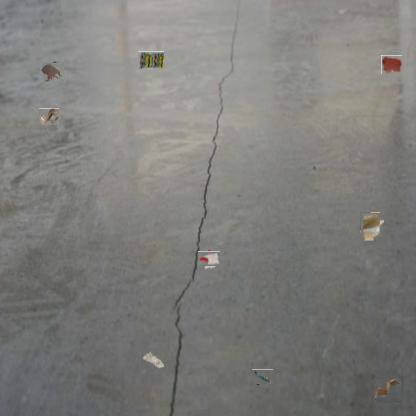dirty: (374, 377, 401, 404), (360, 212, 384, 240), (138, 51, 164, 70), (140, 349, 164, 369), (200, 250, 219, 268), (253, 368, 272, 386), (39, 108, 59, 125)
liquid: (41, 61, 63, 83), (381, 55, 402, 74)
